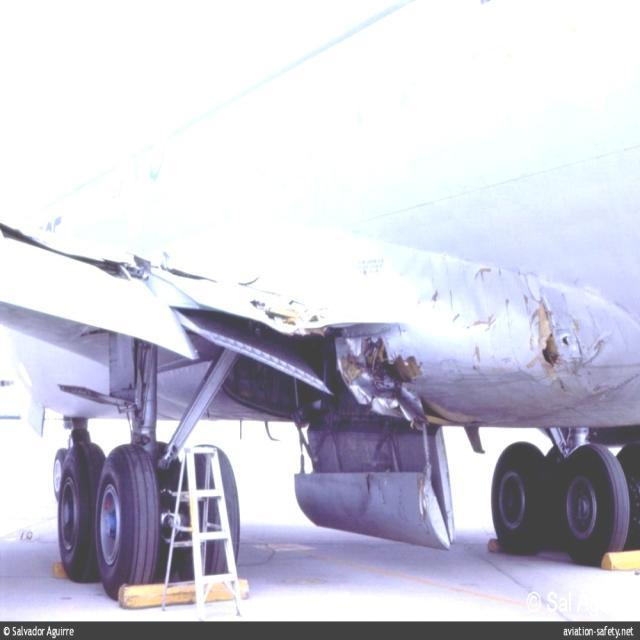crack: (537, 295, 573, 393)
dent: (403, 257, 530, 360)
